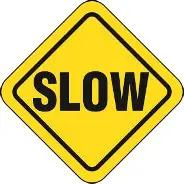Slow: (2, 0, 180, 180)
